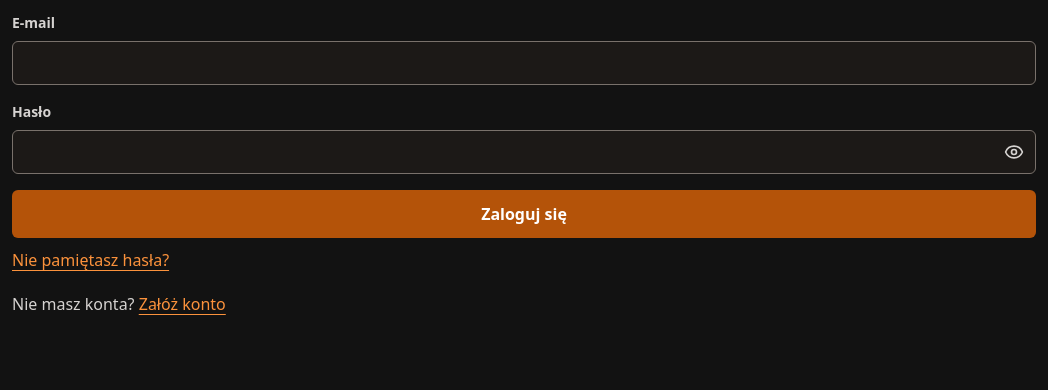
Test: LoginForm › validates locally, without a request, and focuses the first invalid field
The width and height of the screenshot is (1048, 390).
Type "nie-email" into the field labelled "E-mail" at (524, 63), box 12,41 -> 1036,85
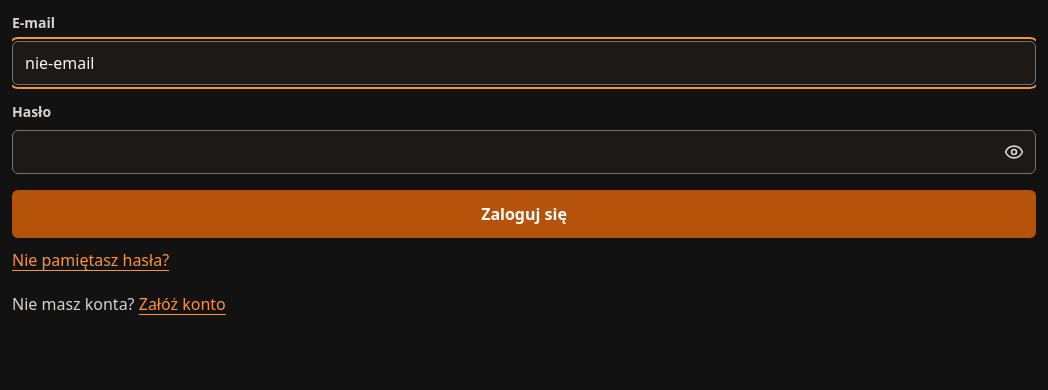
Click the button "Zaloguj się" at (524, 214), box 12,190 -> 1036,238
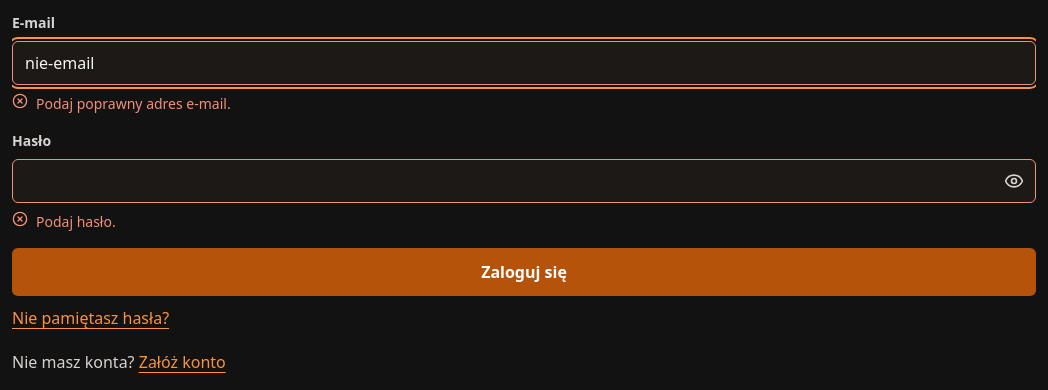
Check: the text "Podaj poprawny adres e-mail." is shown, box 36,93 -> 231,114
Check: the text "Podaj hasło." is shown, box 36,211 -> 116,232
